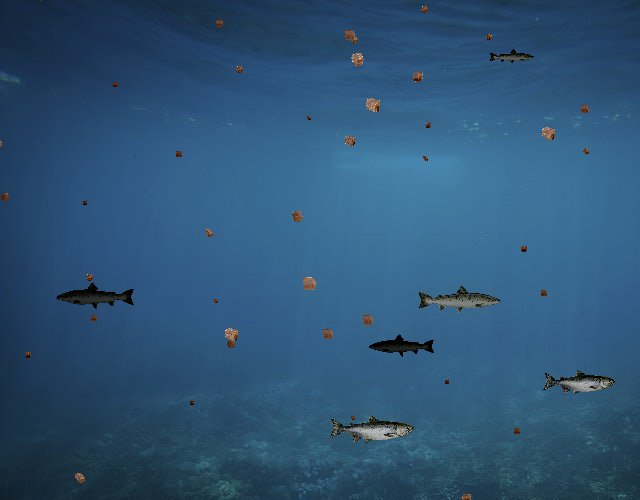Fish: (416, 284, 502, 315), (328, 414, 414, 445), (55, 281, 136, 311), (542, 370, 615, 396), (368, 333, 436, 358), (488, 49, 535, 66)
Pellet: (68, 467, 90, 489), (575, 100, 594, 119), (344, 29, 363, 48), (516, 242, 530, 256), (422, 119, 435, 132), (109, 79, 121, 91), (210, 296, 220, 306)
